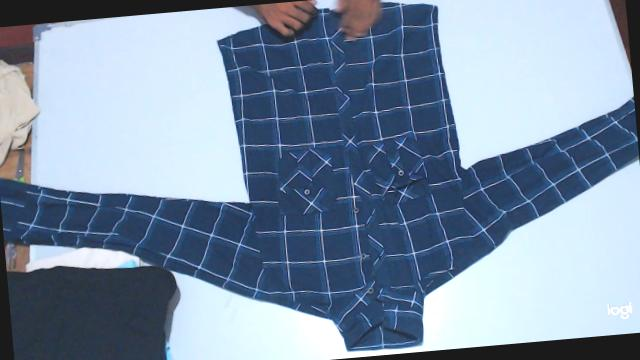new-garment: (0, 0, 639, 351)
